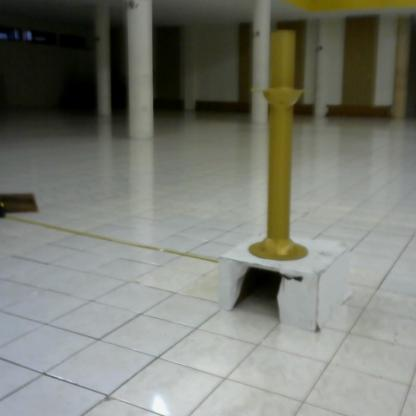pole: (242, 24, 320, 272)
